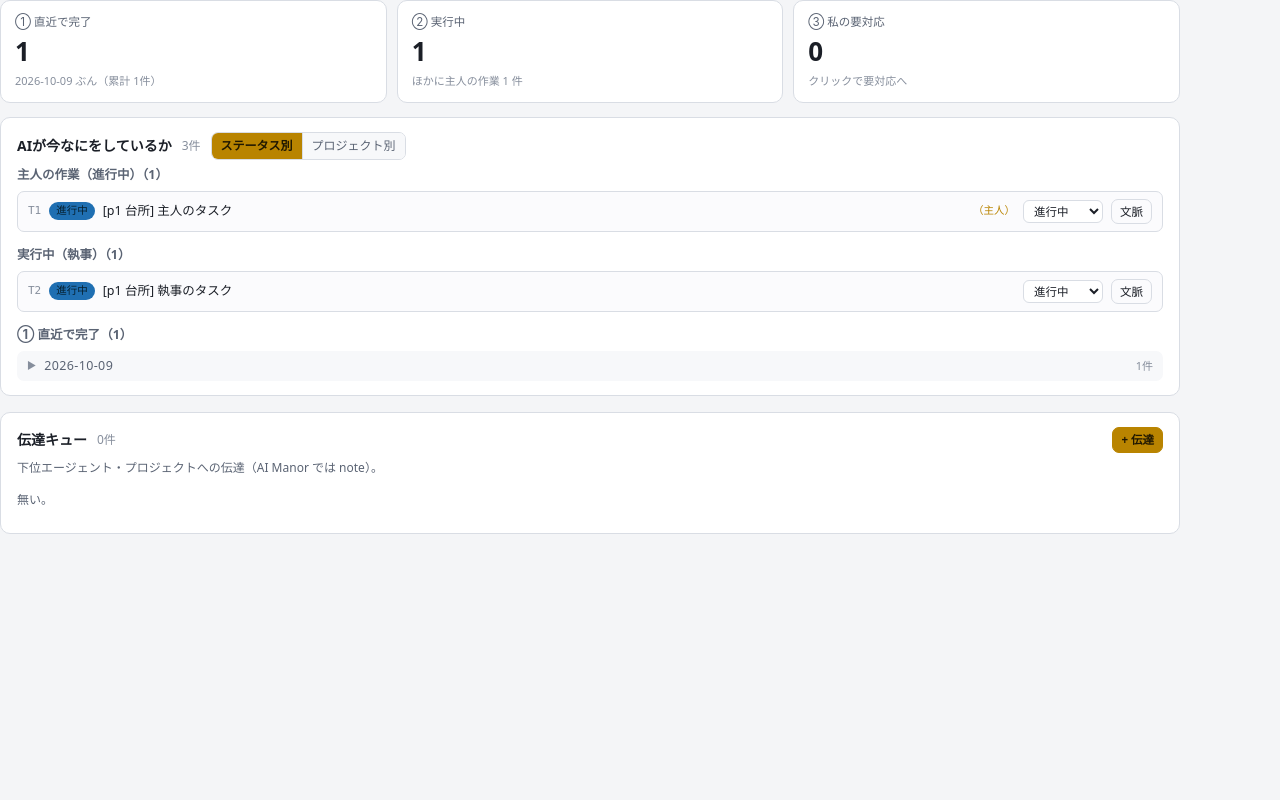
Running — 伝達（ADR-013 D3: メモの追加を画面から） › 本文が空のままでは送信を弾く（fetch の POST を呼ばない）
The width and height of the screenshot is (1280, 800).
Check: the heading "伝達キュー" is shown, box [17,429,87,450]
Click the button "+ 伝達". click: x=1138, y=440
box: [1112,427,1163,453]
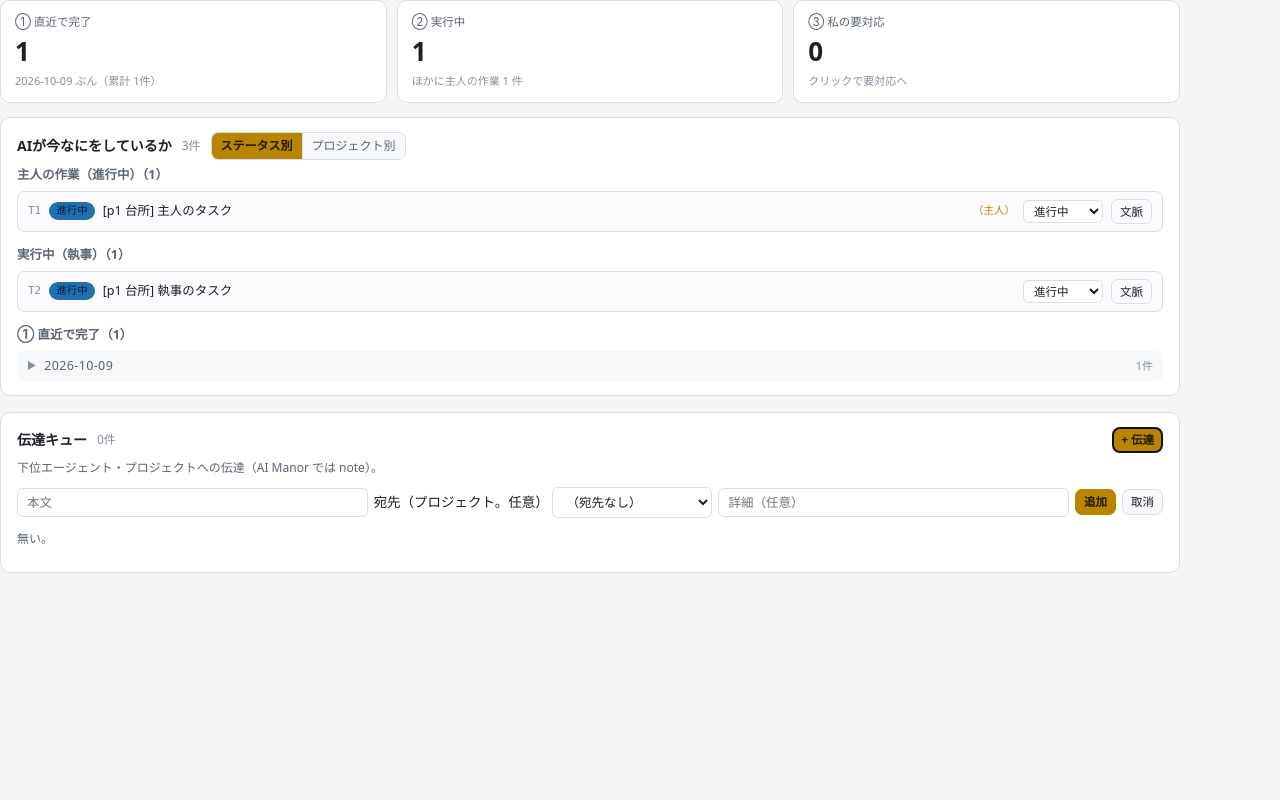
Click the button "追加". click: x=1096, y=502
box: [1075,489,1116,515]
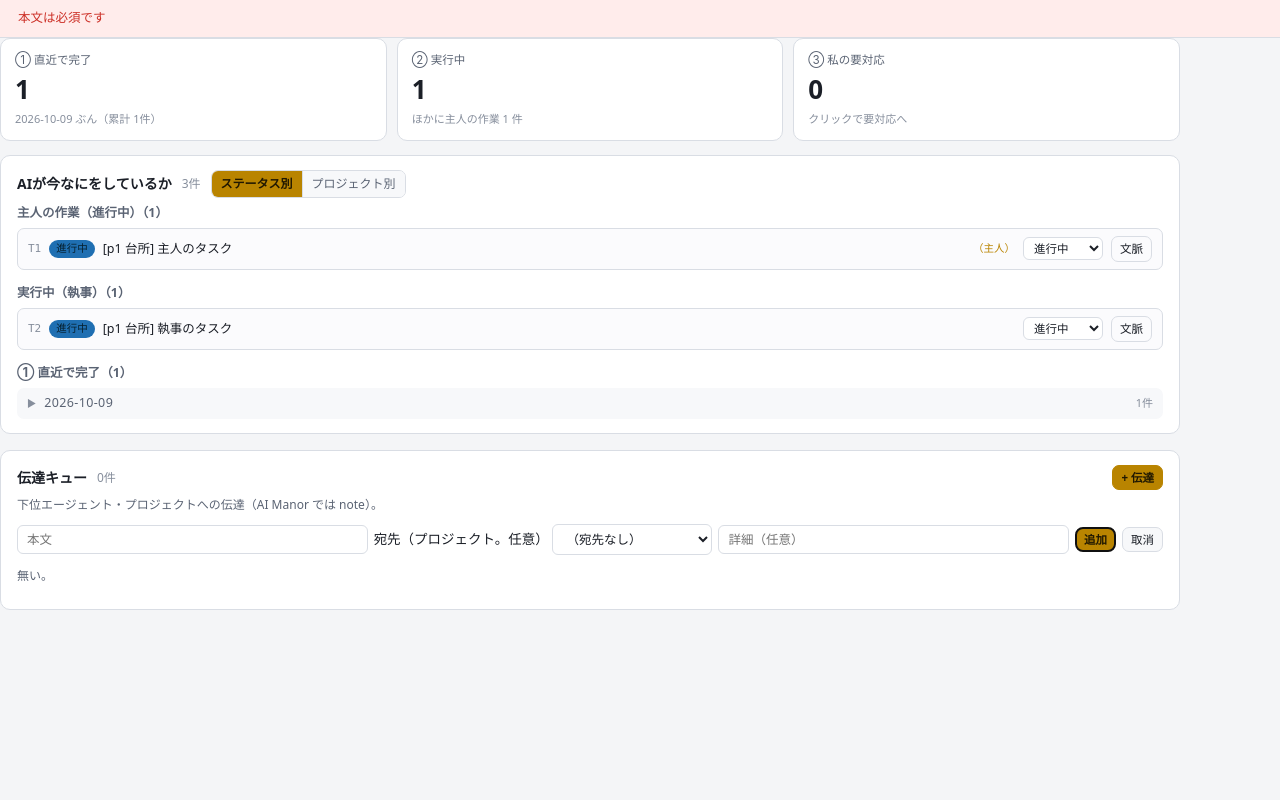
Check: the text "本文は必須です" is shown, box [0,0,1279,38]
